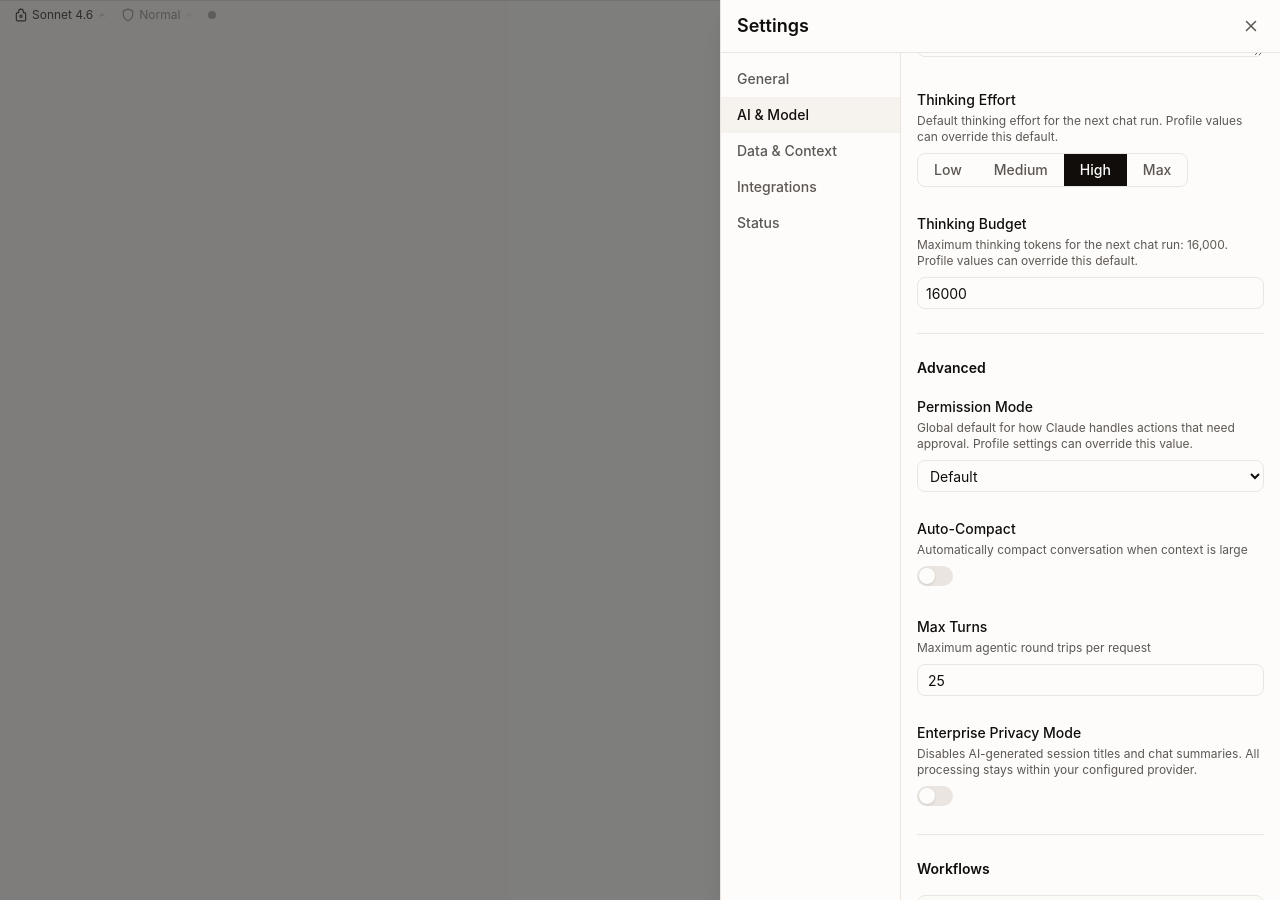
Scenario: StatusBar › PermissionModeSegment › updates displayed label when permission mode changes in settings
(page scrolled)
Select "Plan" in the dropdown with test id "permission-mode-select" at (1090, 476), box [917,460,1264,492]
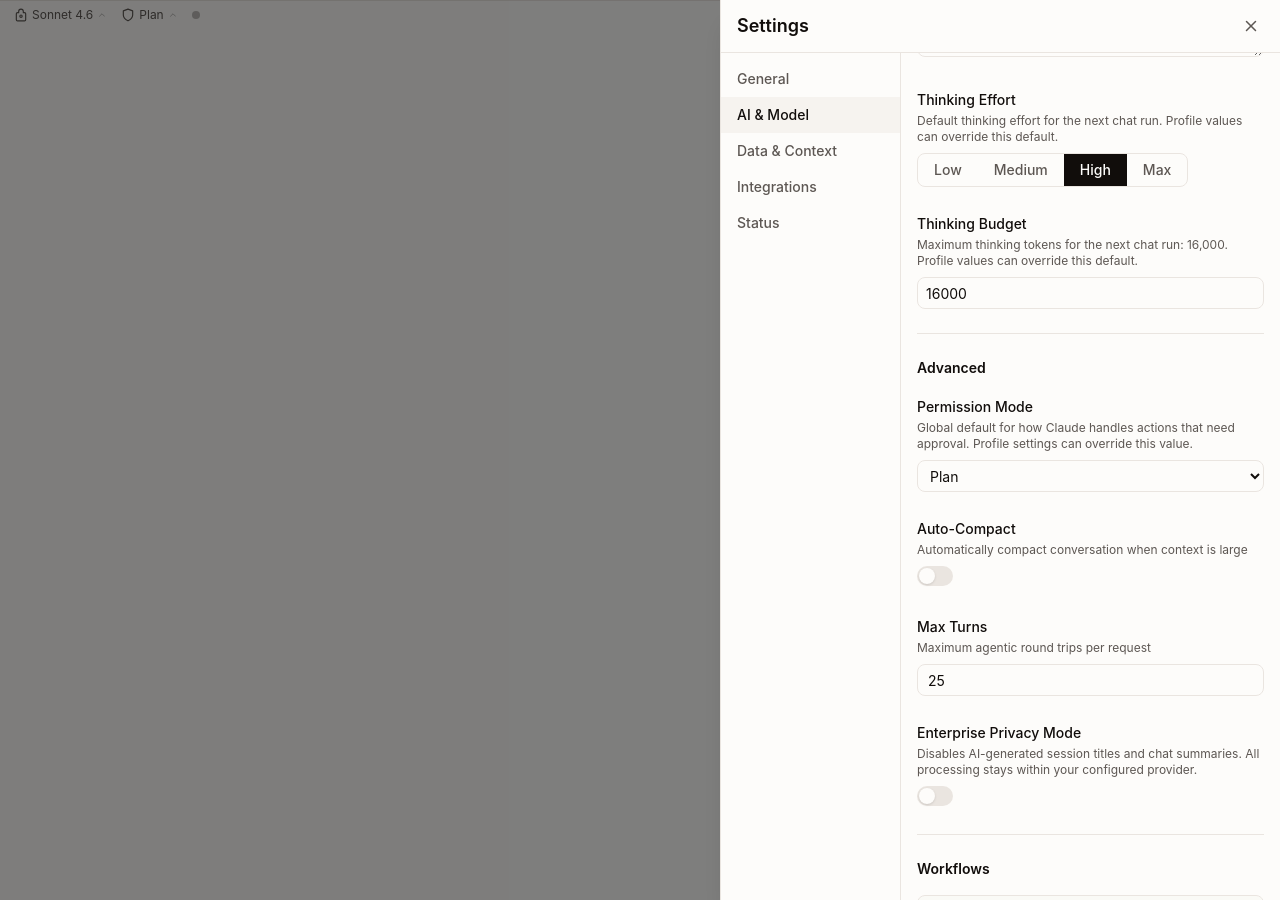
Expected: the element with test id "permission-mode-segment" reads "Plan", [115,4,184,24]
Select "Accept Edits" in the dropdown with test id "permission-mode-select" at (1090, 476), box [917,460,1264,492]
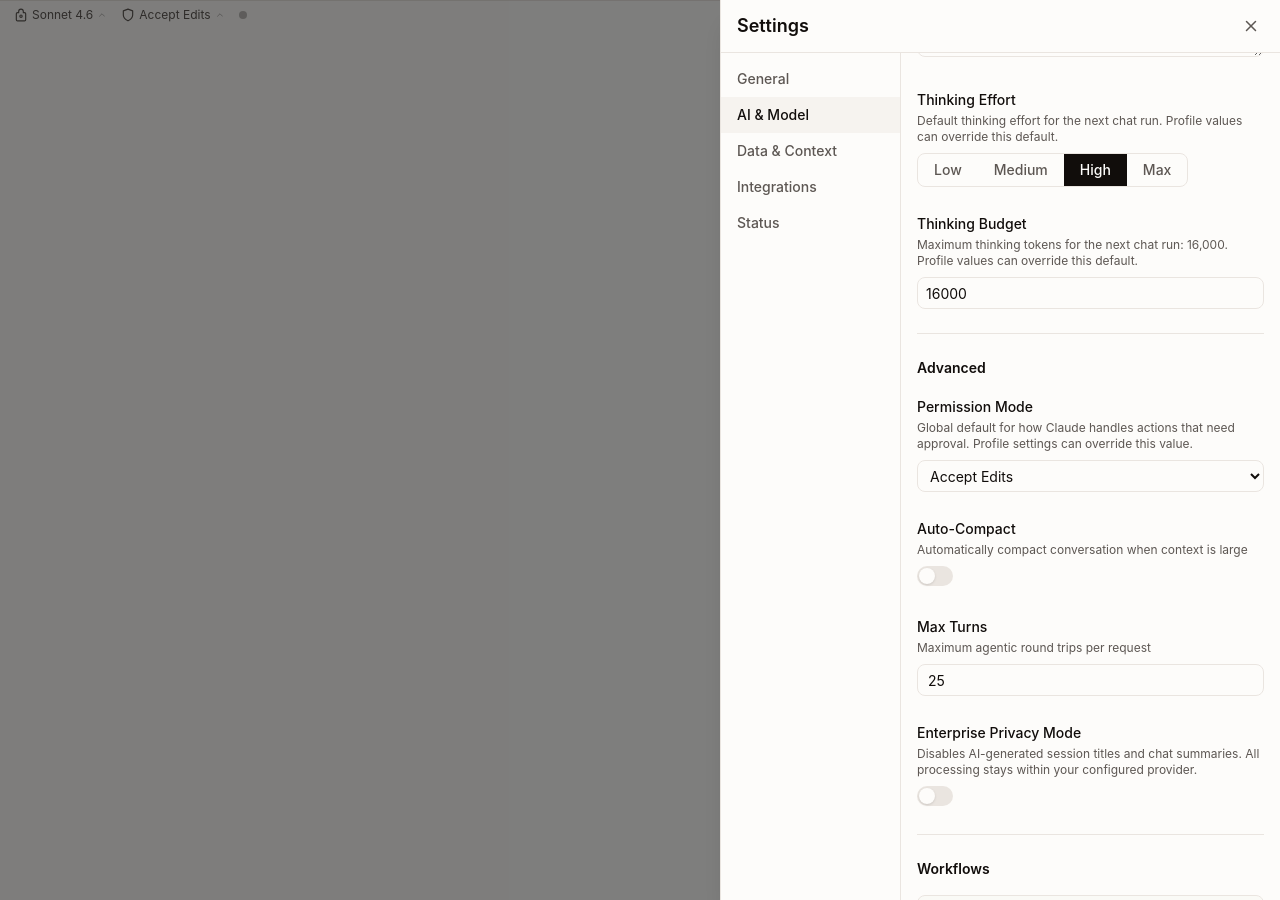
Expected: the element with test id "permission-mode-segment" reads "Accept Edits", [115,4,231,24]
Select "Bypass Permissions" in the dropdown with test id "permission-mode-select" at (1090, 476), box [917,460,1264,492]
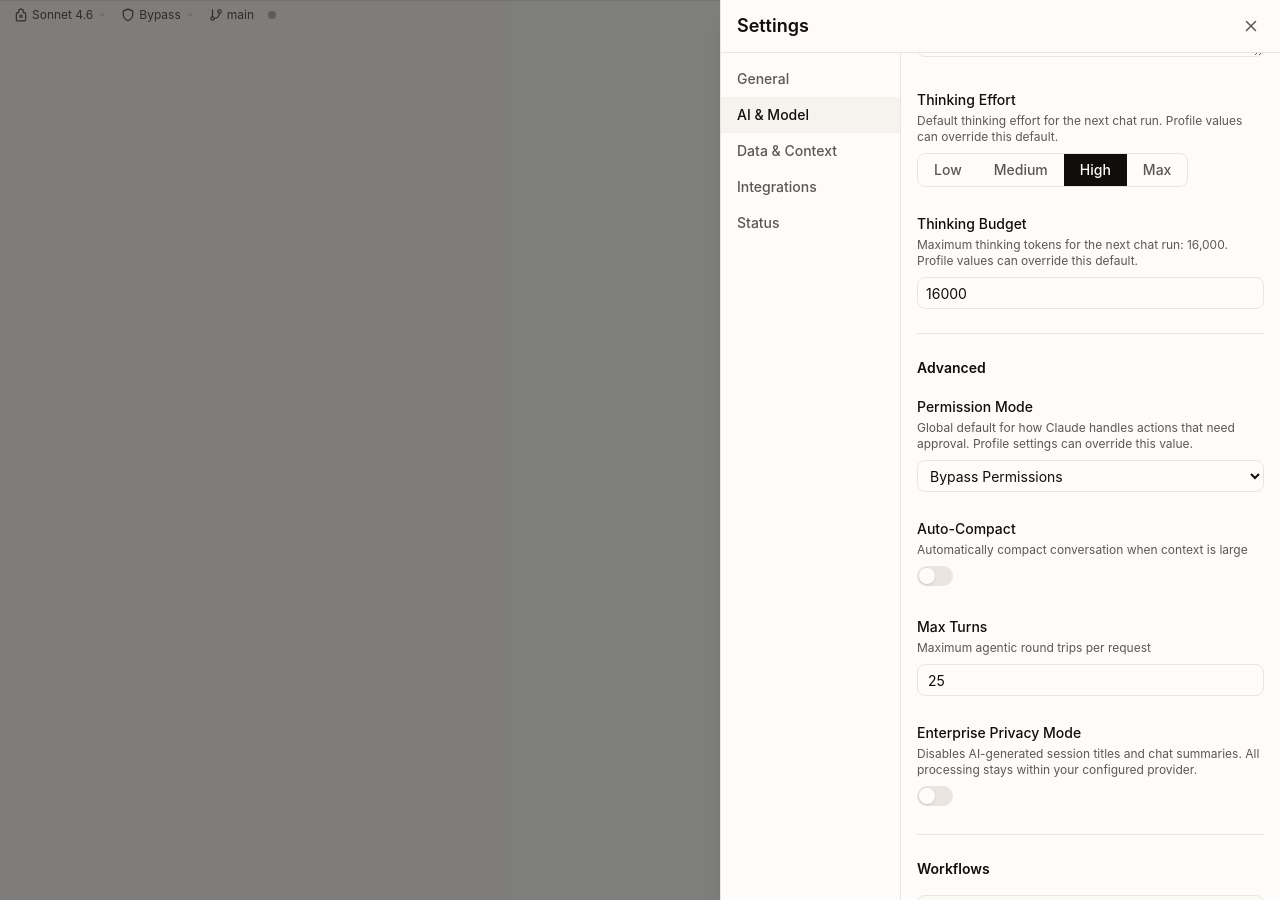
Expected: the element with test id "permission-mode-segment" reads "Bypass", [115,4,201,24]
